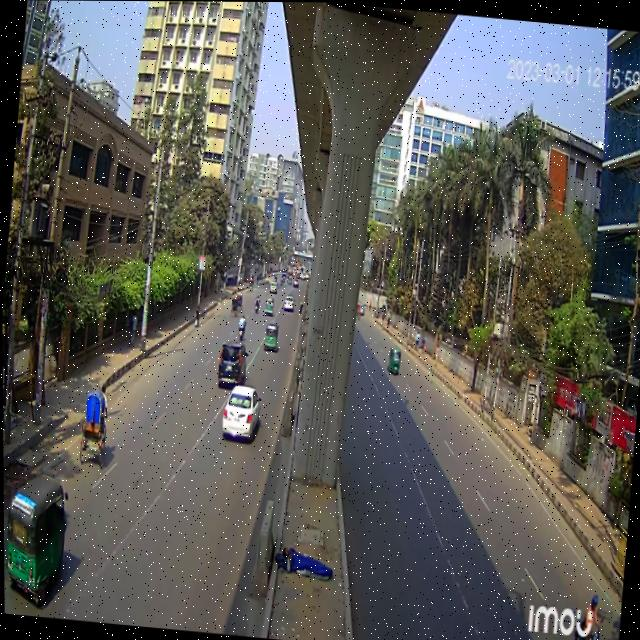cng: (3, 465, 72, 604), (262, 319, 282, 357), (385, 341, 403, 377)
rikshaw: (75, 377, 116, 477)
